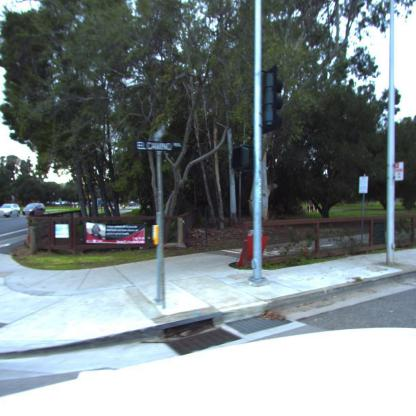car: (24, 202, 46, 215), (1, 203, 21, 217)
